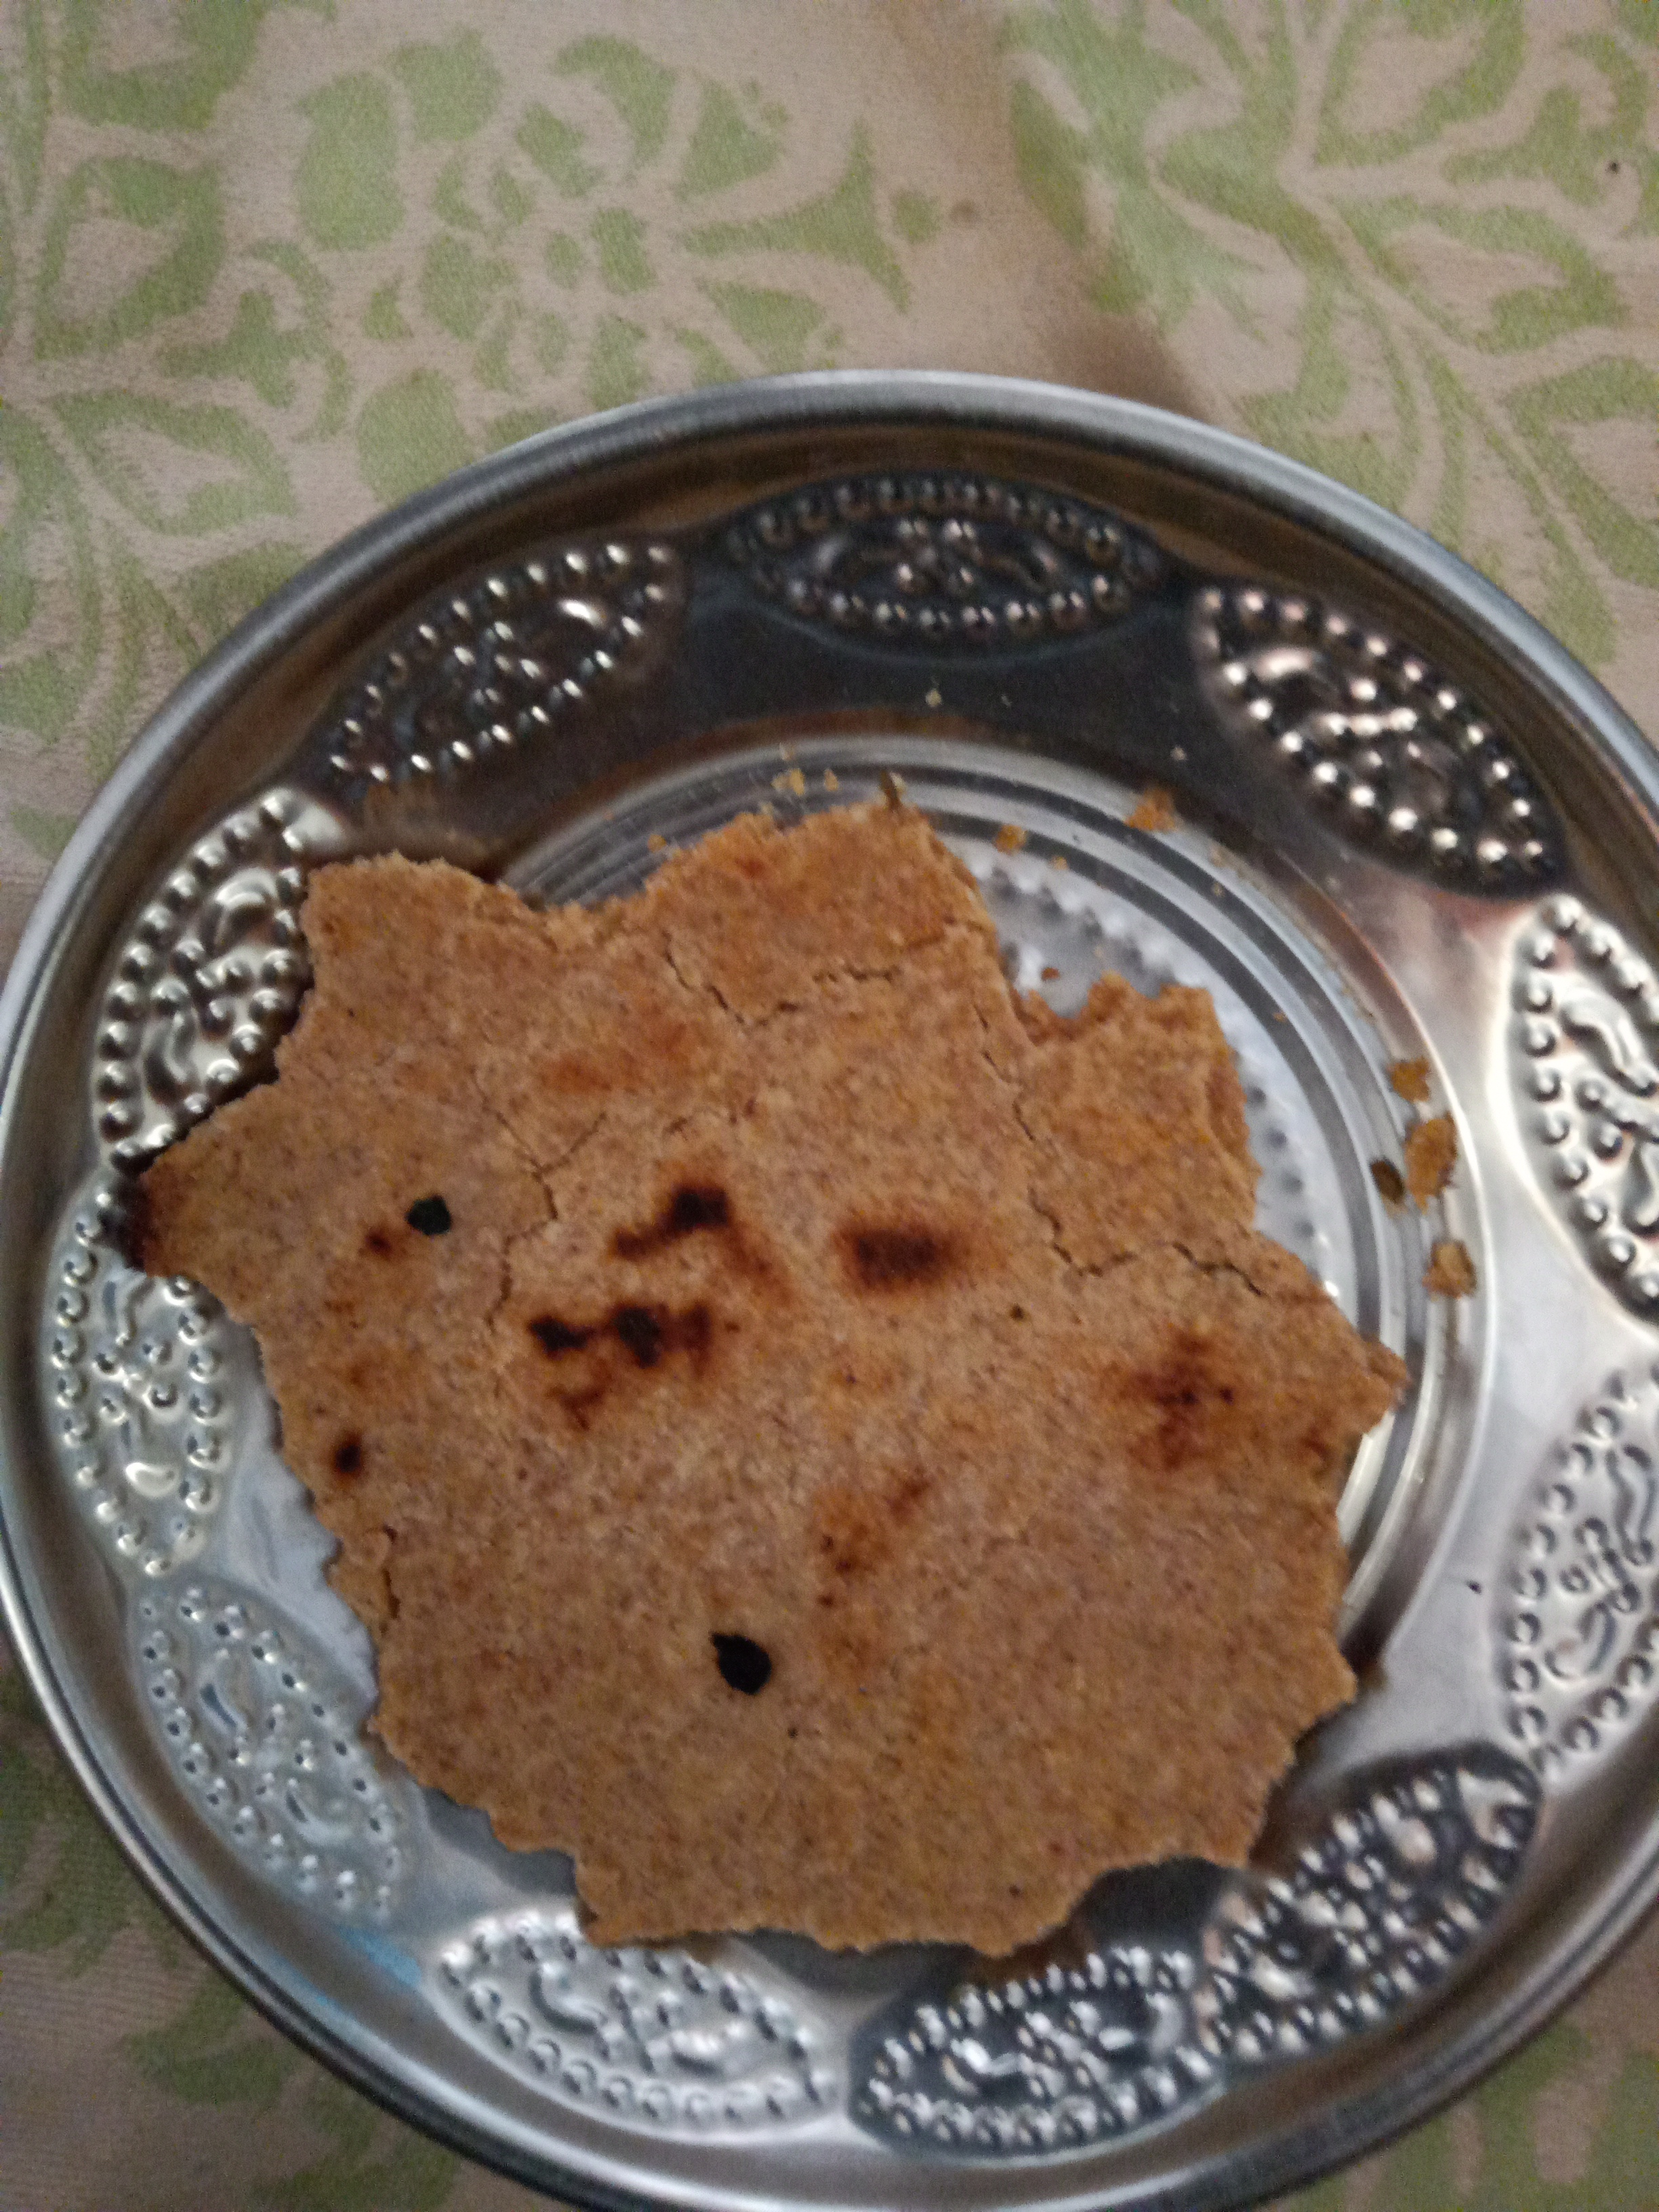food: (94, 779, 1438, 1966)
